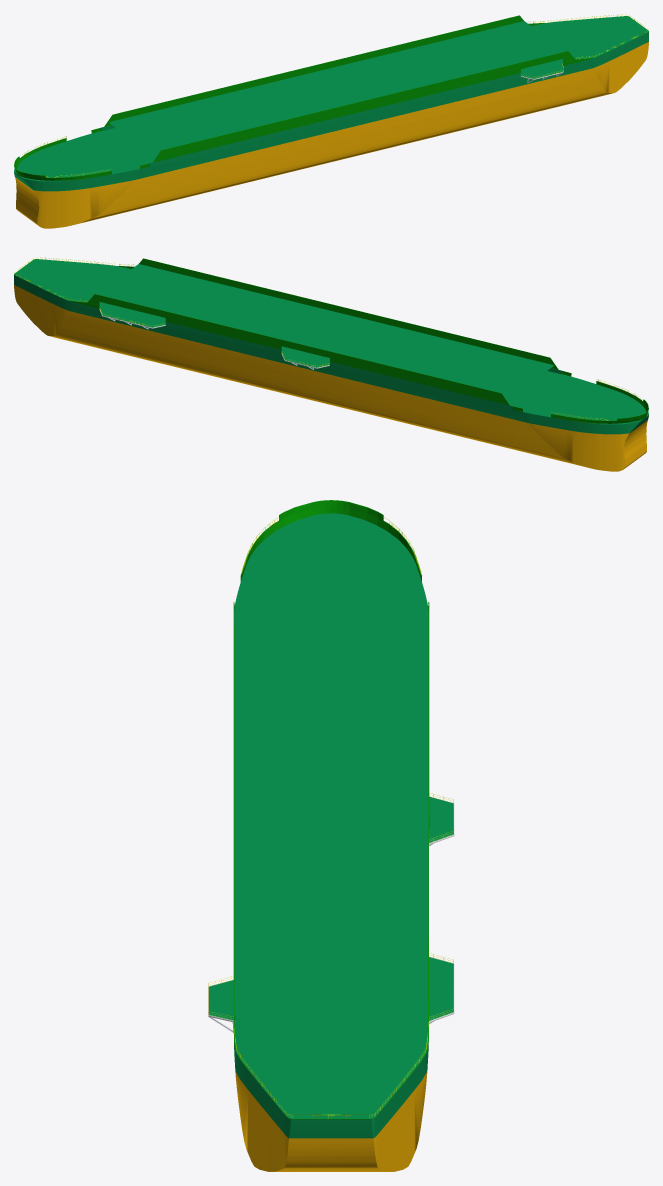
The model's file is 01-SEA LOTUS ELECTROLYSER HULL-Hull.glb.
The picture shows the model from 3 angles, top to bottom: view 1: azimuth 30°, elevation 25°; view 2: azimuth 150°, elevation 25°; view 3: azimuth 270°, elevation 25°; orthographic projection. The views are drawn at different scales.
Parts seen in each view (by area): view 1: 3D Solid.012, Subentity, 3D Solid.013, Subentity.005, Subentity.003, Subentity.008, 3D Face Set.001, 3D Solid.003; view 2: 3D Solid.012, Subentity, 3D Solid.013, Subentity.003, Subentity.005, Subentity.006, 3D Face Set.001, 3D Solid.009, 3D Solid.002; view 3: Subentity, 3D Solid.013, 3D Solid.012, 3D Face Set.001, 3D Solid.009, 3D Solid.
Part boxes in pixels (bbox=[...]): 3D Solid.012: bbox=[15, 42, 648, 228]; Subentity: bbox=[108, 21, 565, 156]; 3D Solid.013: bbox=[14, 16, 648, 191]; Subentity.005: bbox=[188, 52, 563, 153]; Subentity.003: bbox=[139, 16, 514, 114]; Subentity.008: bbox=[149, 62, 563, 166]; 3D Face Set.001: bbox=[14, 16, 648, 180]; 3D Solid.003: bbox=[153, 144, 187, 162]; 3D Solid.012: bbox=[14, 285, 647, 471]; Subentity: bbox=[97, 264, 554, 399]; 3D Solid.013: bbox=[14, 259, 648, 434]; Subentity.003: bbox=[99, 295, 474, 396]; Subentity.005: bbox=[148, 259, 523, 357]; Subentity.006: bbox=[99, 305, 513, 409]; 3D Face Set.001: bbox=[14, 259, 648, 423]; 3D Solid.009: bbox=[100, 309, 164, 327]; 3D Solid.002: bbox=[475, 387, 509, 405]; Subentity: bbox=[234, 610, 428, 1016]; 3D Solid.013: bbox=[234, 513, 428, 1138]; 3D Solid.012: bbox=[235, 1071, 427, 1171]; 3D Face Set.001: bbox=[233, 500, 428, 1119]; 3D Solid.009: bbox=[429, 957, 453, 1020]; 3D Solid: bbox=[429, 797, 453, 843].
Bounding box in the file's own units: 373 × 35.28 × 63.97.
